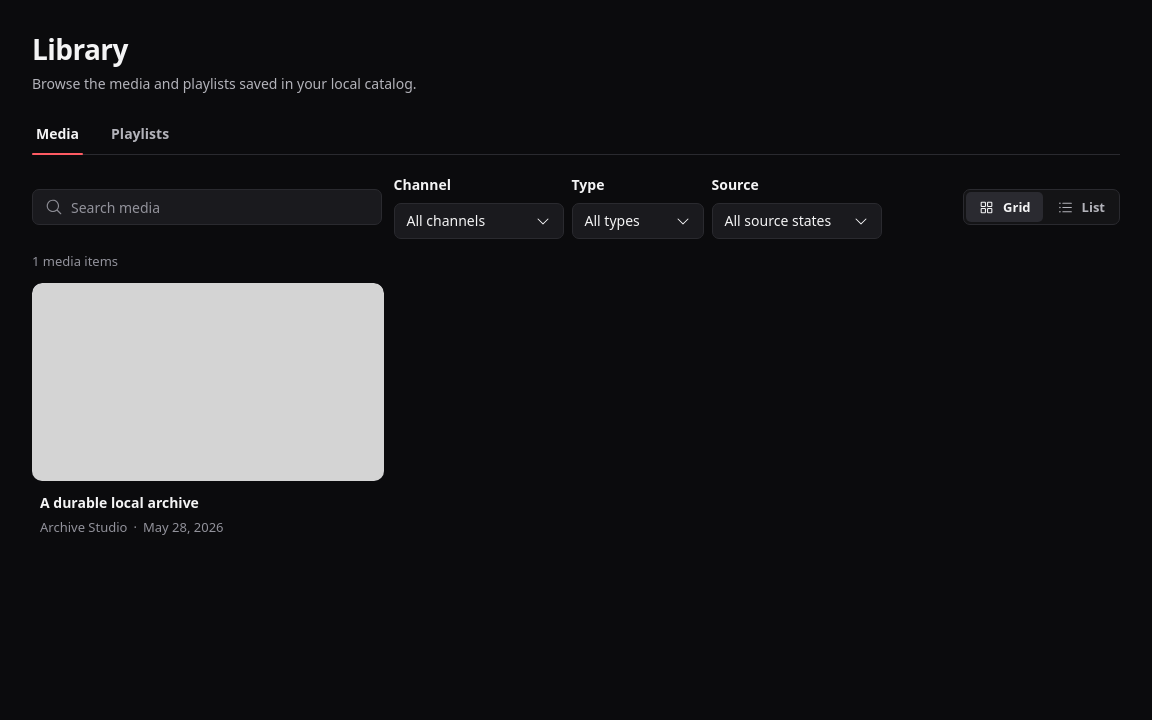
Library Stage 5 route bodies › sends only supported server-side filters and changes between grid and list
Step 1. Type "durable" into the search field labelled "Search media" → [226, 207], box [71, 190, 380, 224]
Wait 200 ms
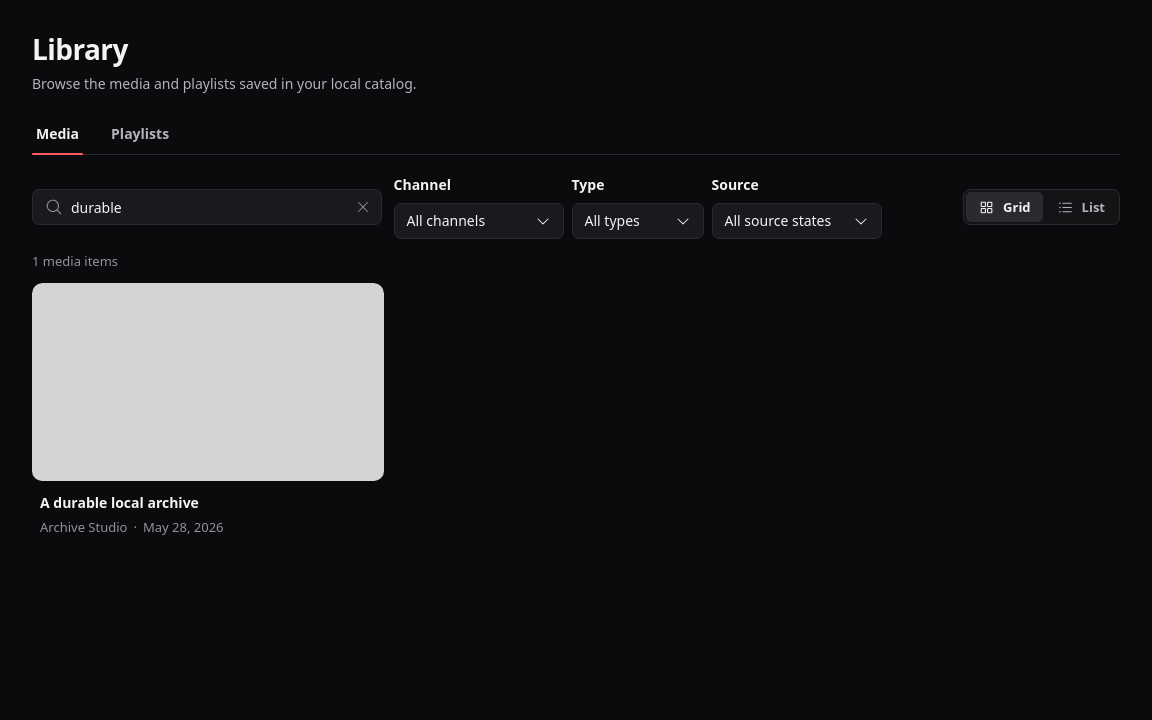
Step 2. Click the radio button labelled "List" → [1081, 207], box [1045, 192, 1117, 222]
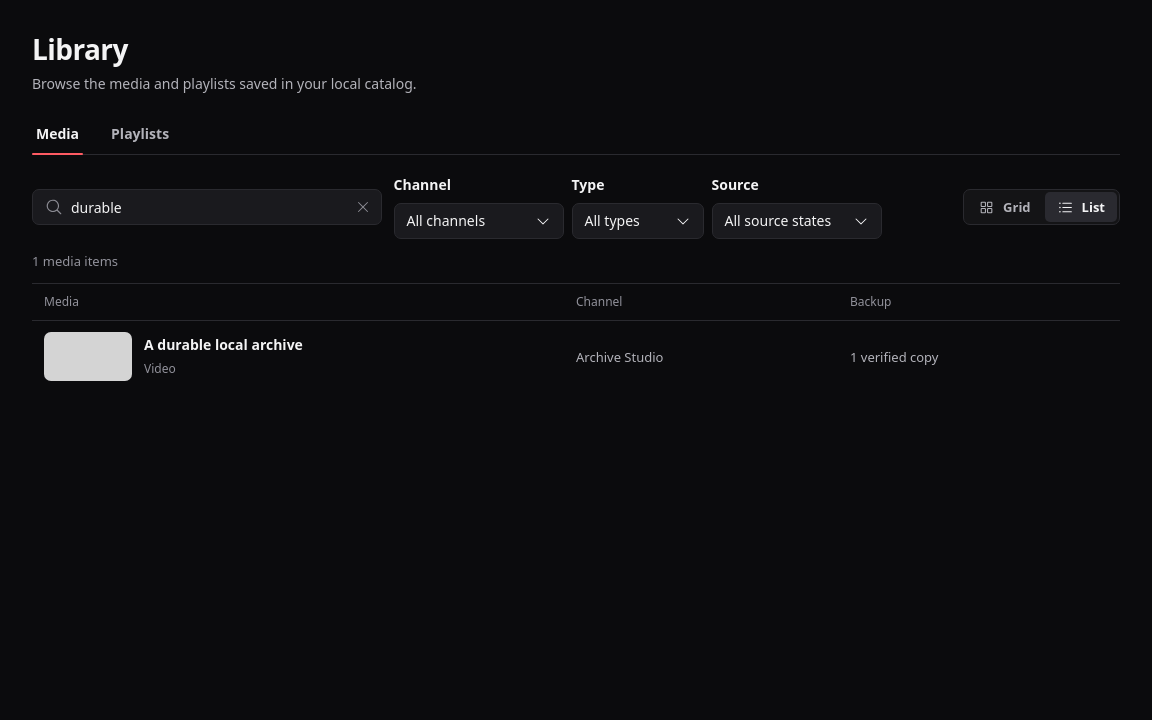
Expected: the list with class "media-list" is shown, [32, 283, 1120, 392]
Expected: the list with class "library-media-grid" is gone
